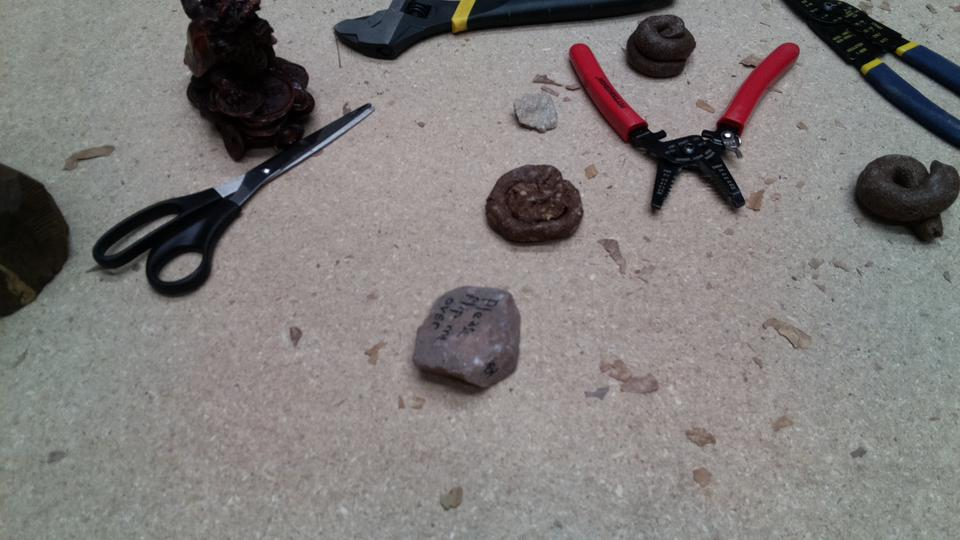poop: (852, 151, 960, 245), (480, 161, 588, 249), (624, 11, 697, 82)
